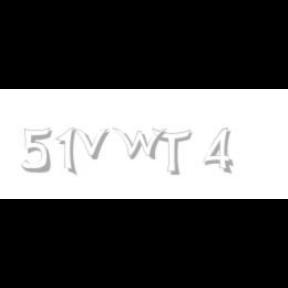1: (55, 128, 77, 176)
4: (202, 128, 234, 174)
5: (21, 128, 52, 174)
T: (152, 128, 192, 176)
v: (73, 128, 113, 160)
w: (112, 128, 172, 160)
